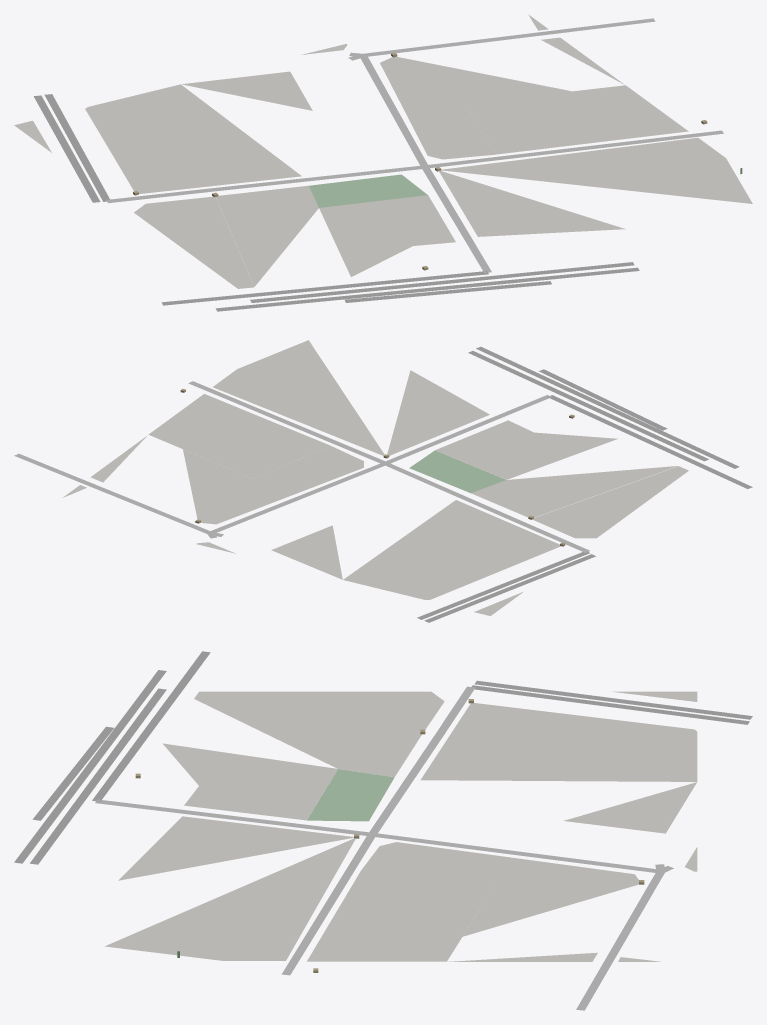
3 renders of one model, top to bottom at view 1: azimuth 30°, elevation 25°; view 2: azimuth 150°, elevation 25°; view 3: azimuth 270°, elevation 25°, orthographic. The views are drawn at different scales.
Size of the model in its own units: 664 by 7.3 by 577.
